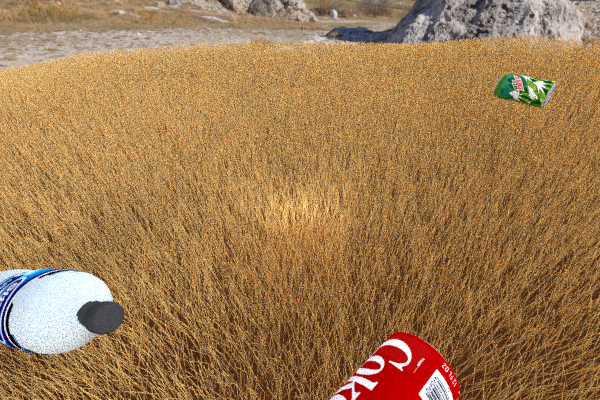Plastic Bottle: (297, 332, 459, 400), (0, 268, 124, 354), (493, 73, 556, 107)
